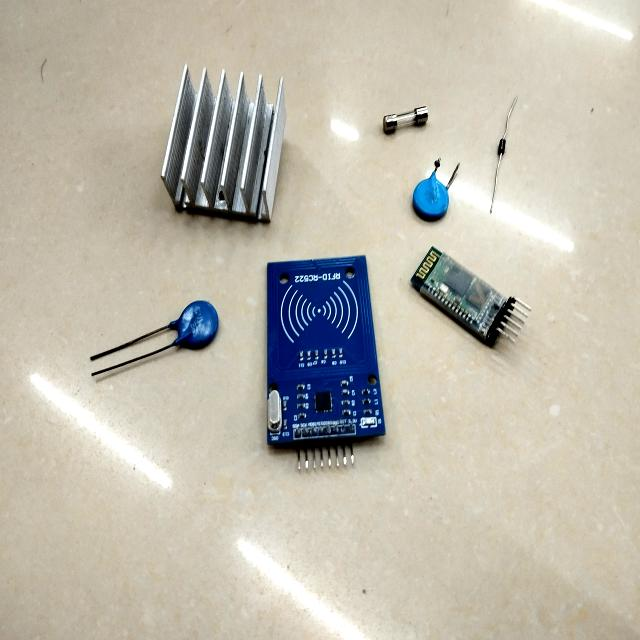capacitor: (176, 301, 218, 350), (413, 178, 449, 222)
